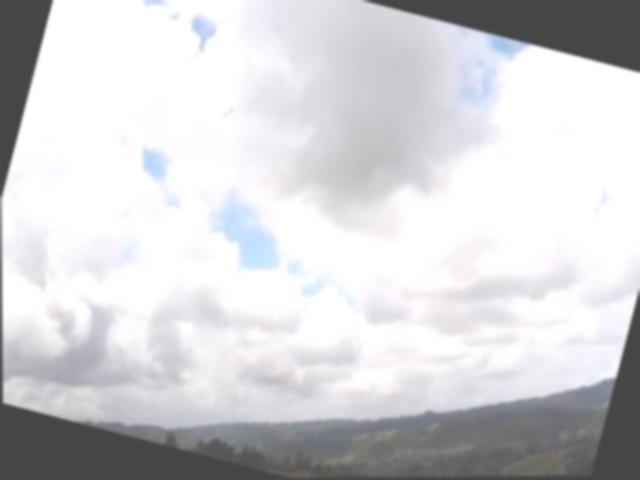iha: (221, 102, 236, 123)
